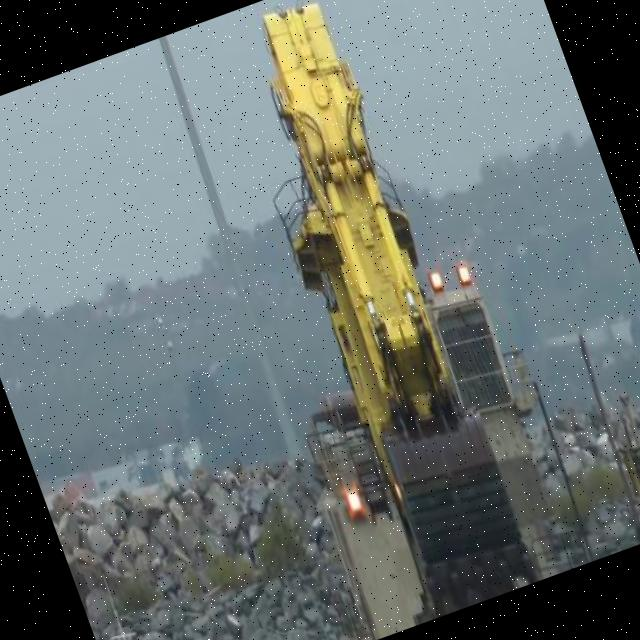Excavator: (127, 0, 600, 640)
